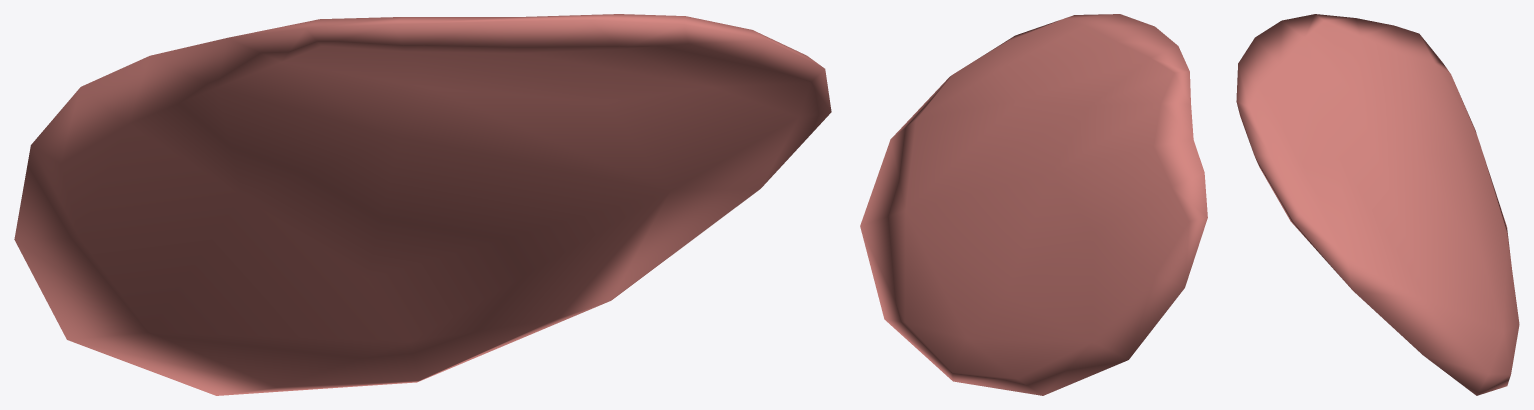
3 renders of one model, left to right at view 1: azimuth 30°, elevation 25°; view 2: azimuth 150°, elevation 25°; view 3: azimuth 270°, elevation 25°, orthographic. The views are drawn at different scales.
Parts seen in each view (by area): view 1: ZA_4cacfed9502b751b; view 2: ZA_4cacfed9502b751b; view 3: ZA_4cacfed9502b751b.
Part boxes in pixels (left/top/right/bottom): ZA_4cacfed9502b751b: left=14, top=14, right=831, bottom=395; ZA_4cacfed9502b751b: left=860, top=14, right=1207, bottom=395; ZA_4cacfed9502b751b: left=1236, top=14, right=1519, bottom=395.
Size of the model in its own units: 0.00721 by 0.00552 by 0.00463.
